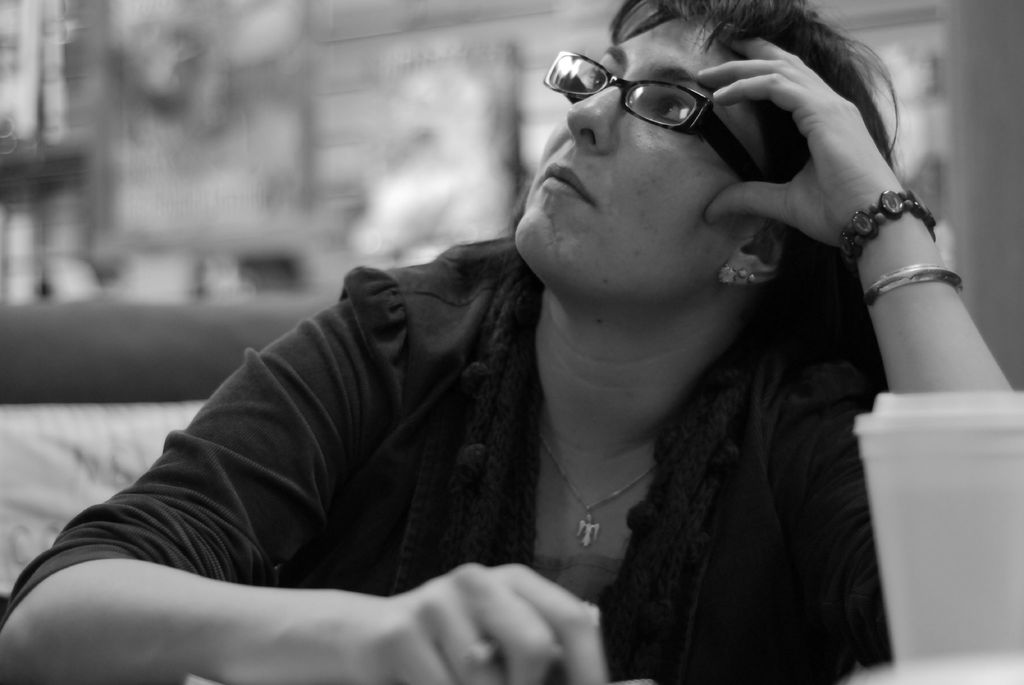Human-face: (515, 9, 767, 278)
